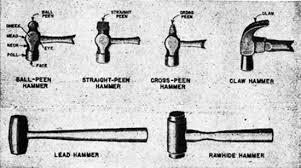hammer: (237, 16, 296, 72), (22, 18, 77, 62)
